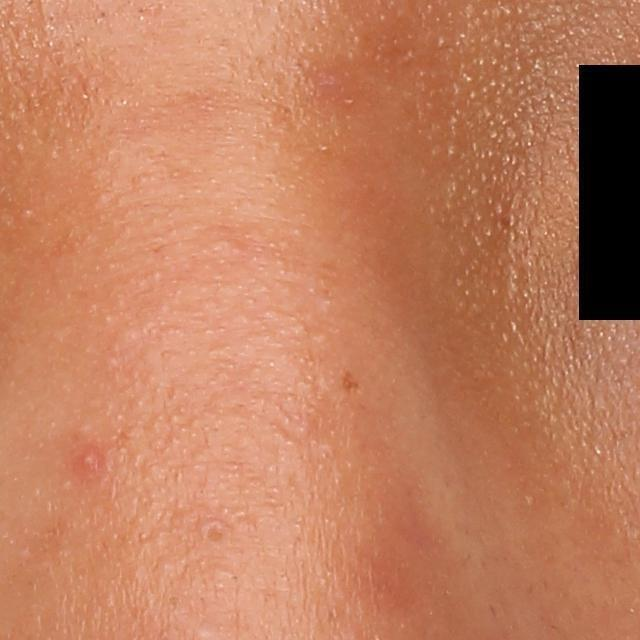comedo: (202, 519, 226, 544)
nevus: (336, 364, 365, 402)
